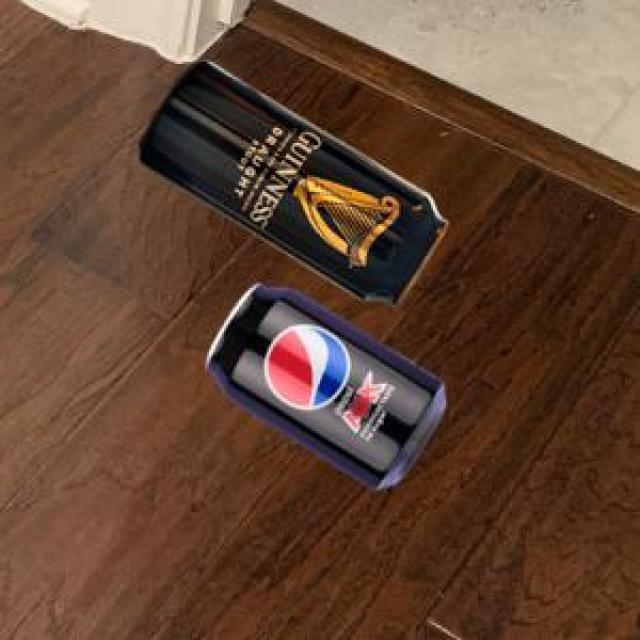logam: (138, 59, 445, 304), (204, 281, 443, 487)
